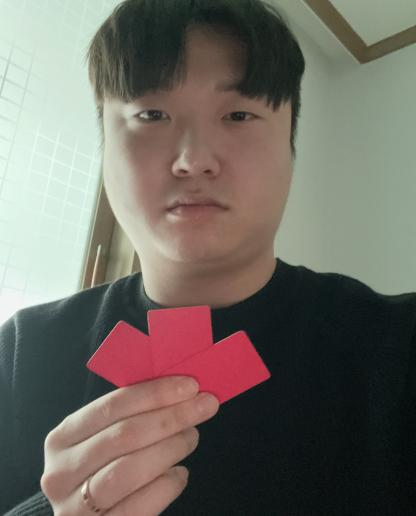ThreeHwatoo: (68, 294, 287, 413)
